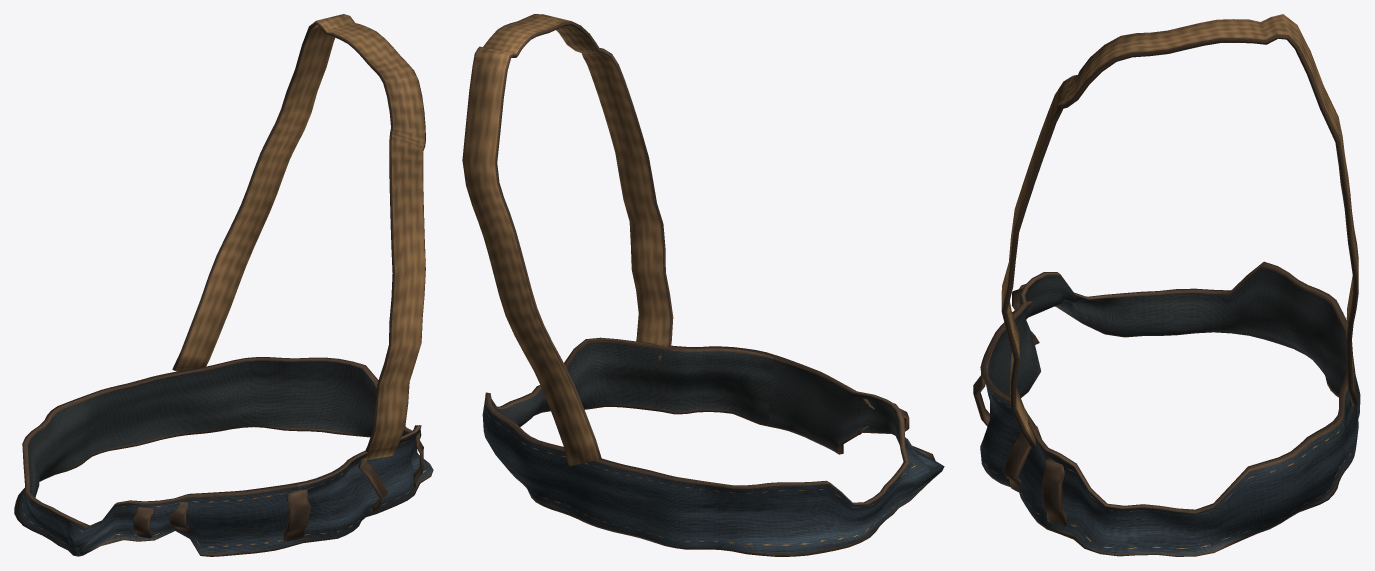
Rendered from BeltBodyV2-v2.glb.
3 views of the same model, side by side, from view 1: azimuth 30°, elevation 25°; view 2: azimuth 150°, elevation 25°; view 3: azimuth 270°, elevation 25° (orthographic). The views are drawn at different scales.
Visible parts, largest first — view 1: BeltBodyV2; view 2: BeltBodyV2; view 3: BeltBodyV2.
Boxes of the visible parts, bbox=[...] form: BeltBodyV2: bbox=[14, 14, 433, 556]; BeltBodyV2: bbox=[462, 14, 944, 556]; BeltBodyV2: bbox=[973, 14, 1360, 556].
Bounding box in the file's own units: 0.3637 × 0.3751 × 0.2566.
Materials: 1 (1 with a texture image).
